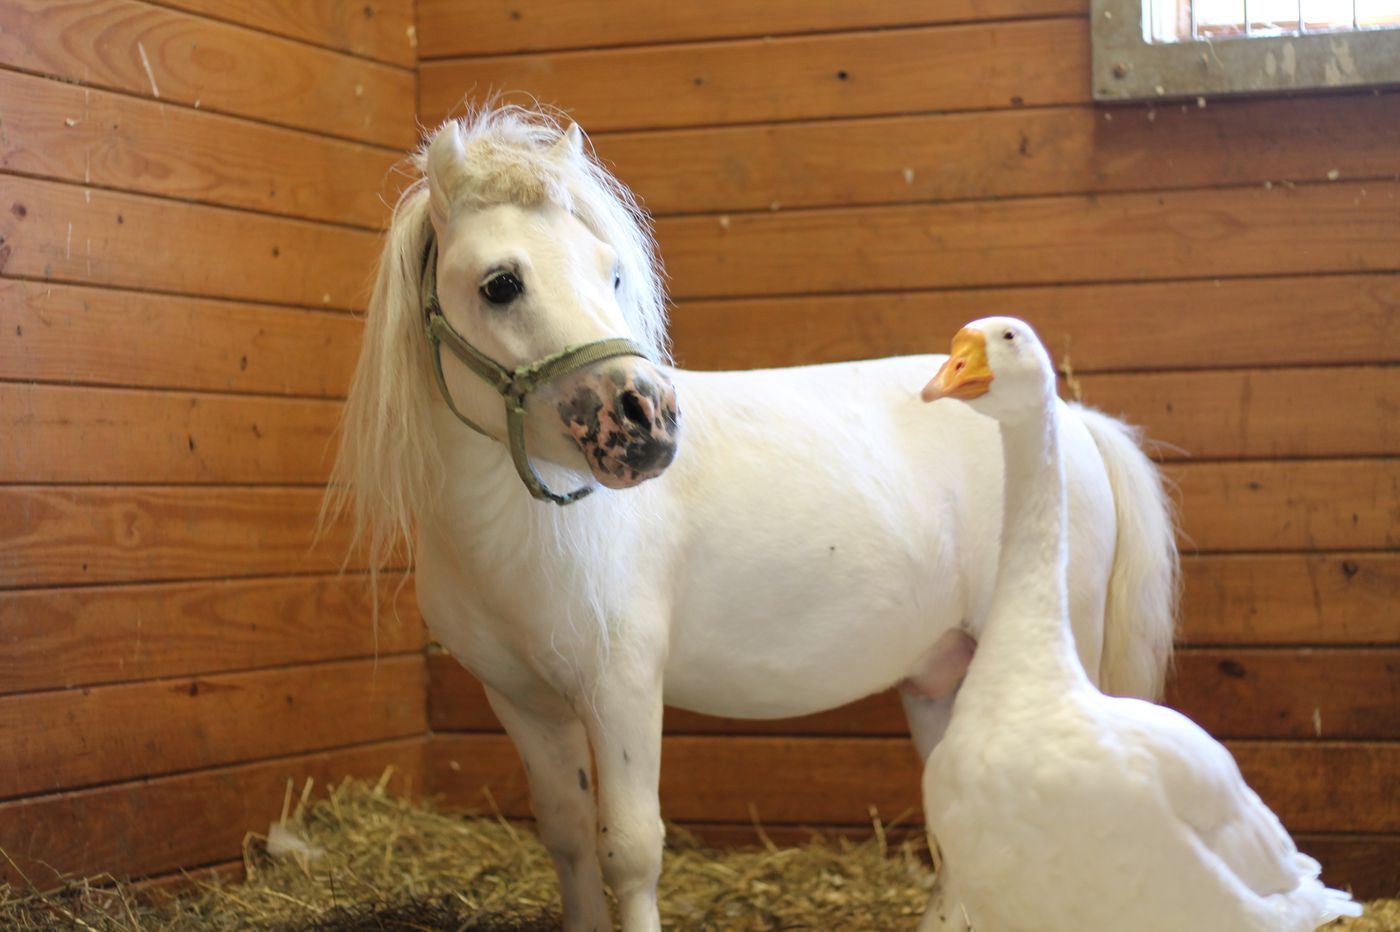Horse: (239, 38, 912, 904)
